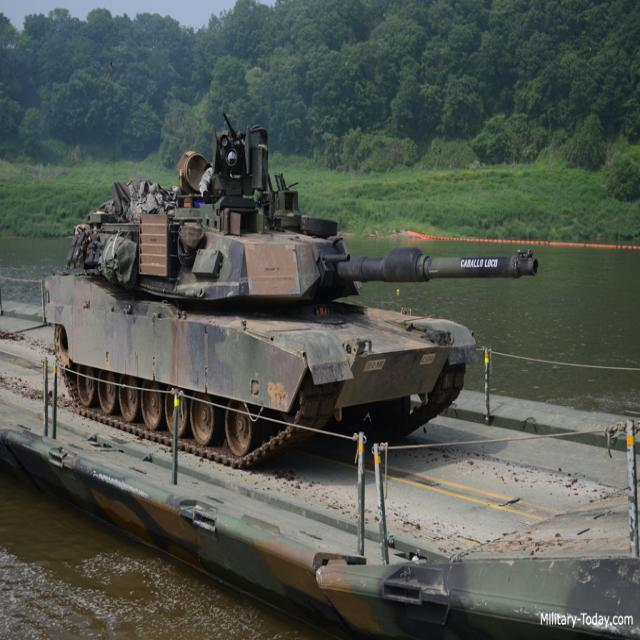Tank: (48, 99, 550, 457)
